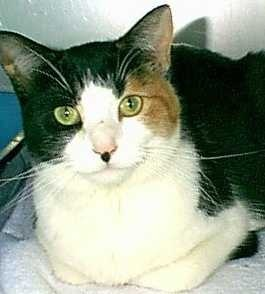Cat: (1, 18, 264, 293)
